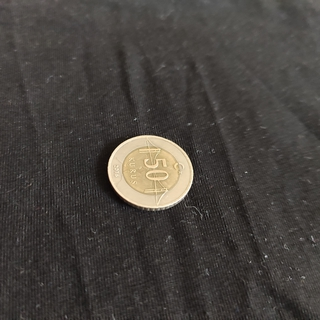50KURUS: (105, 133, 194, 212)
